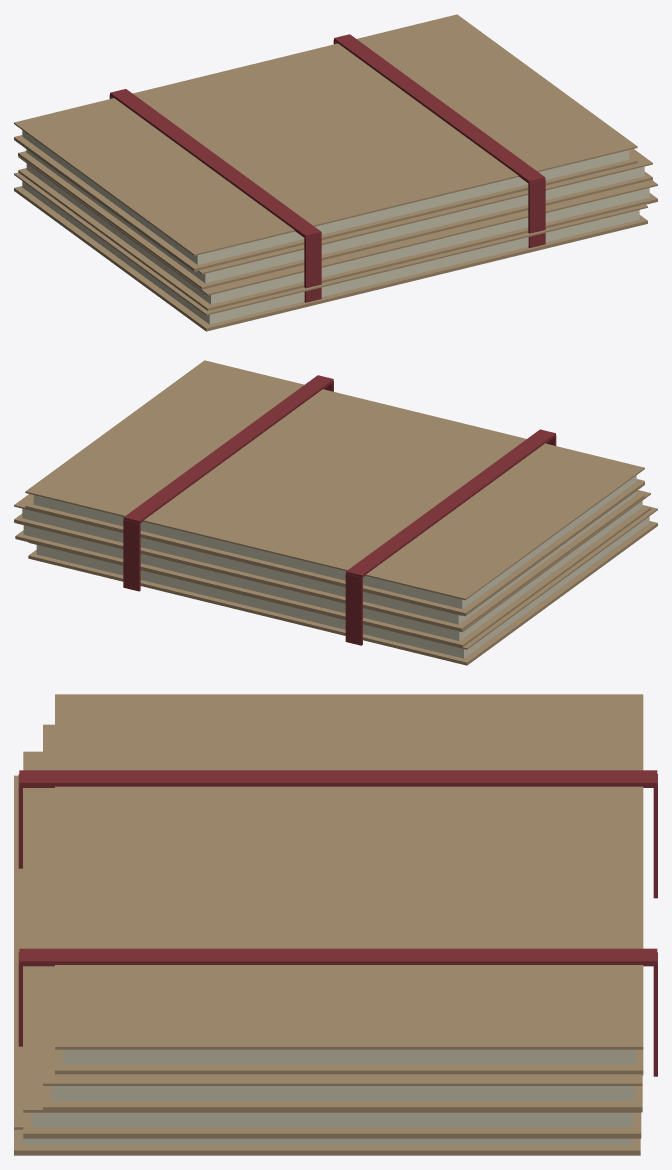
The model's file is tied_files.gltf.
The picture shows the model from 3 angles, top to bottom: view 1: azimuth 30°, elevation 25°; view 2: azimuth 150°, elevation 25°; view 3: azimuth 270°, elevation 25°; orthographic projection. The views are drawn at different scales.
Visible parts, largest first — view 1: tied_files; view 2: tied_files; view 3: tied_files.
Part boxes in pixels (<box>): tied_files: <box>14,14,657,331</box>; tied_files: <box>14,360,657,665</box>; tied_files: <box>14,694,657,1155</box>.
Bounding box in the file's own units: 0.3135 × 0.0465 × 0.2353.
